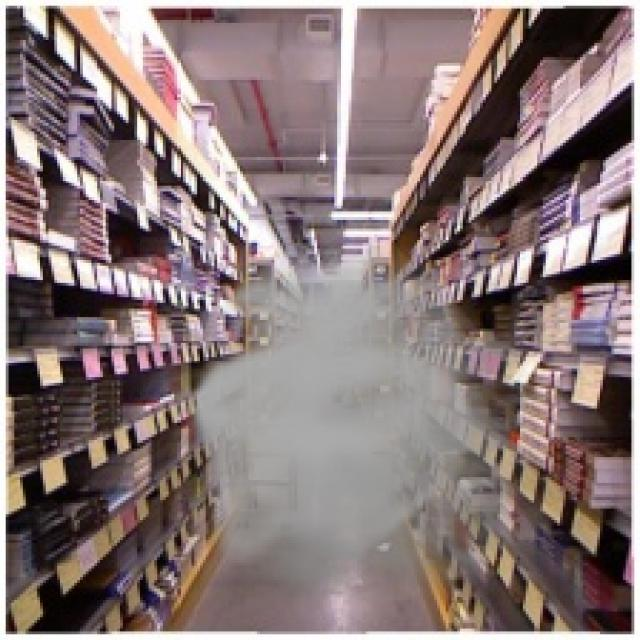smoke: (186, 240, 577, 614)
